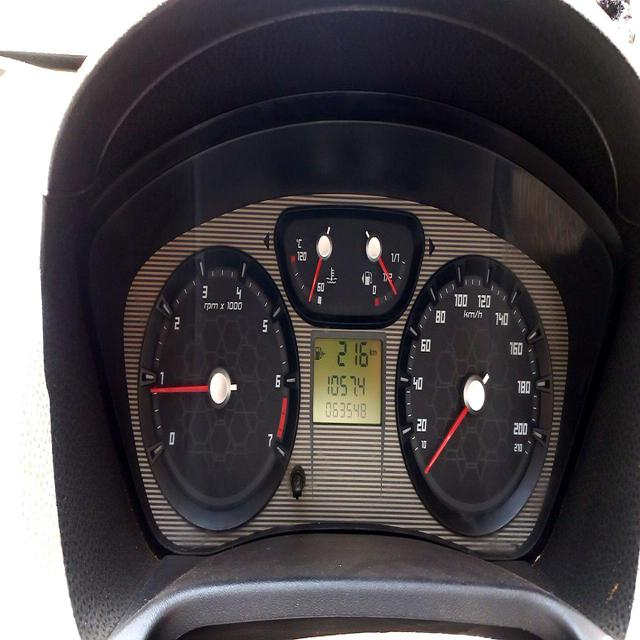odometer: (323, 397, 368, 422)
